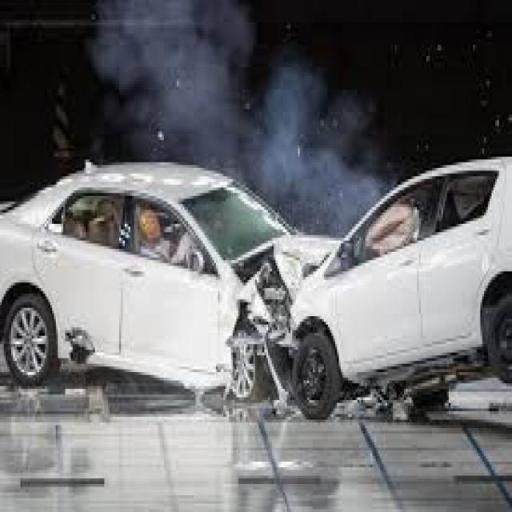小汽车撞小汽车: (7, 166, 512, 400)
